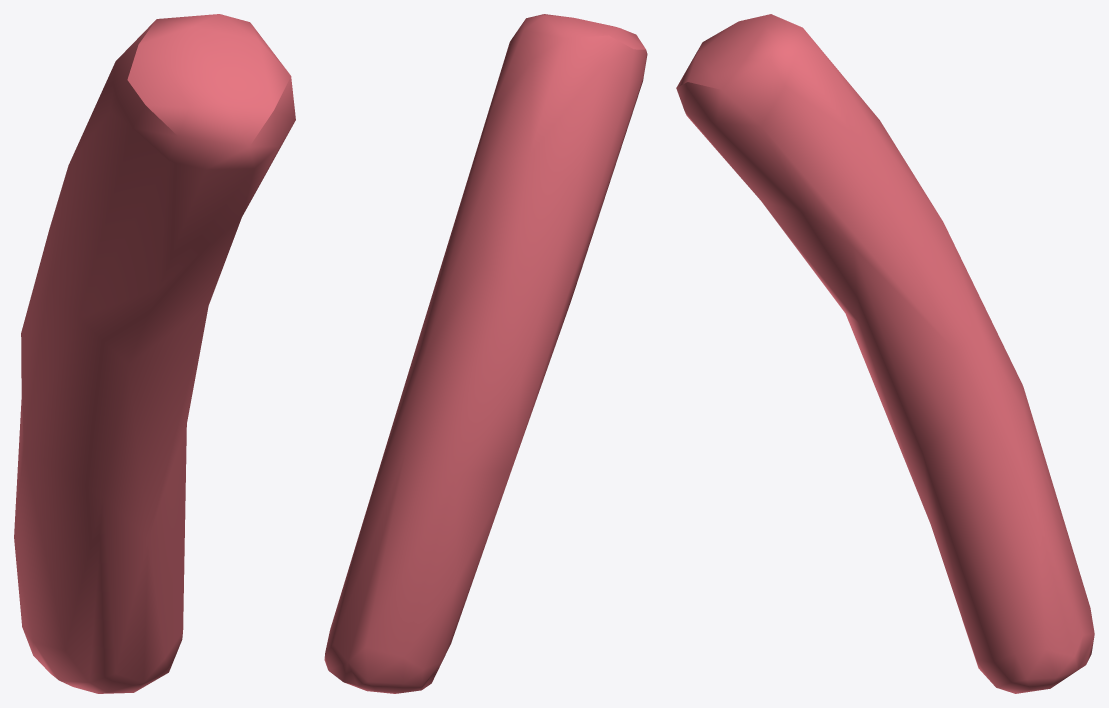
Rendered from fma18886_fj3523.glb.
The picture shows the model from 3 angles, left to right: view 1: azimuth 30°, elevation 25°; view 2: azimuth 150°, elevation 25°; view 3: azimuth 270°, elevation 25°; orthographic projection. The views are drawn at different scales.
Parts seen in each view (by area): view 1: FMA18886_FJ3523; view 2: FMA18886_FJ3523; view 3: FMA18886_FJ3523.
Part boxes in pixels (box(x1,y1,x2,y2)): FMA18886_FJ3523: box(14, 14, 295, 693); FMA18886_FJ3523: box(324, 14, 647, 693); FMA18886_FJ3523: box(676, 14, 1094, 693).
Bounding box in the file's own units: 0.00746 × 0.0245 × 0.0149.
